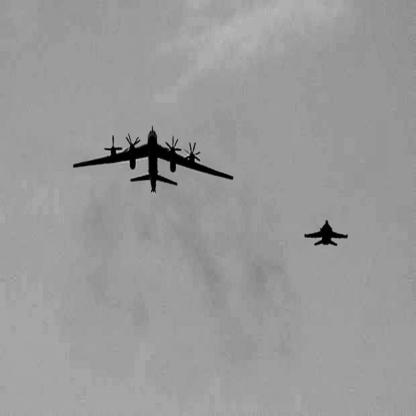F18: (305, 220, 349, 248)
Tu95: (74, 125, 235, 195)
